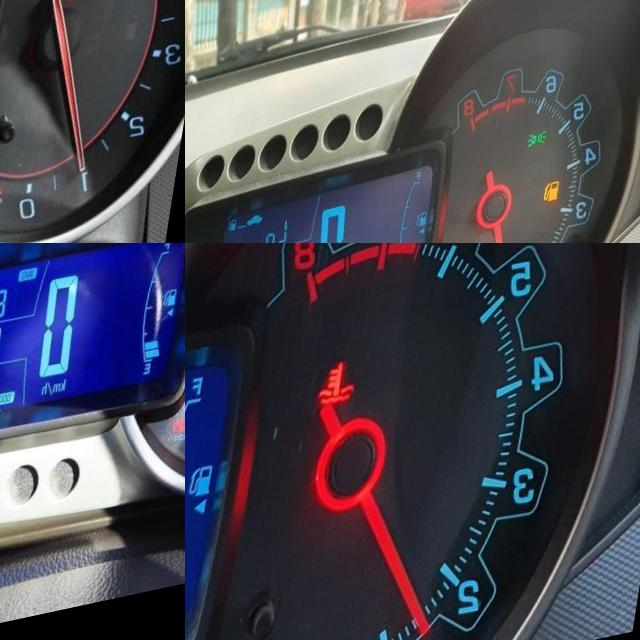Doors: (74, 0, 97, 24)
Engine cooling system: (329, 369, 371, 418)
Low fuel level: (553, 199, 571, 224)
SideLamp: (535, 147, 557, 169)
